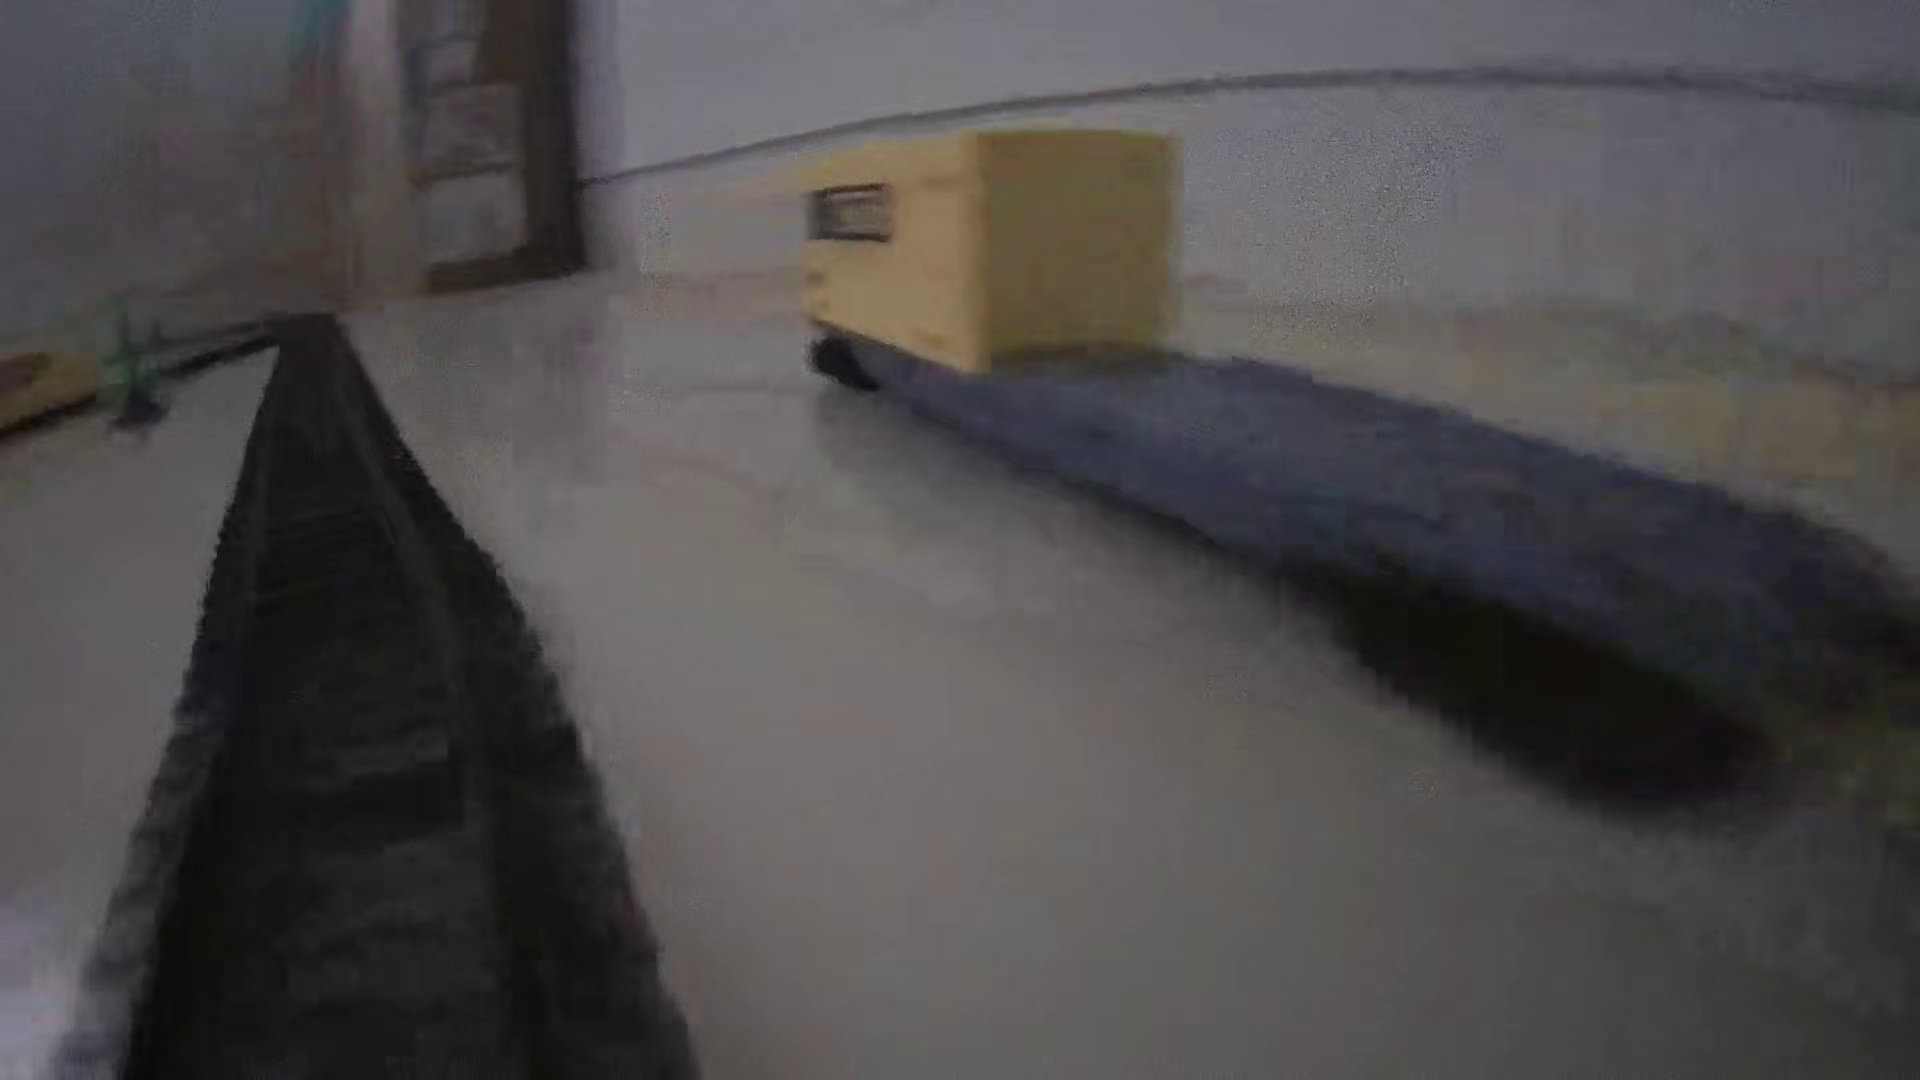tree: (88, 302, 173, 441)
